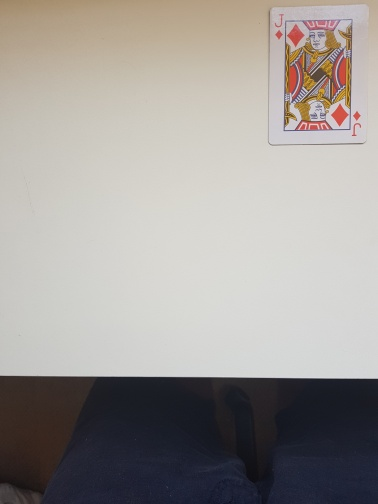jack: (266, 4, 371, 146)
